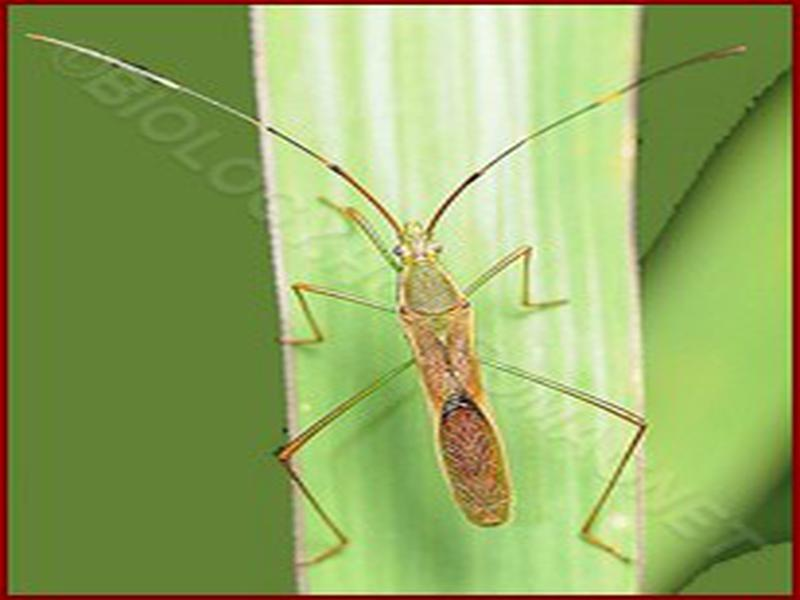Rice_earhead_bug: (263, 157, 625, 558)
